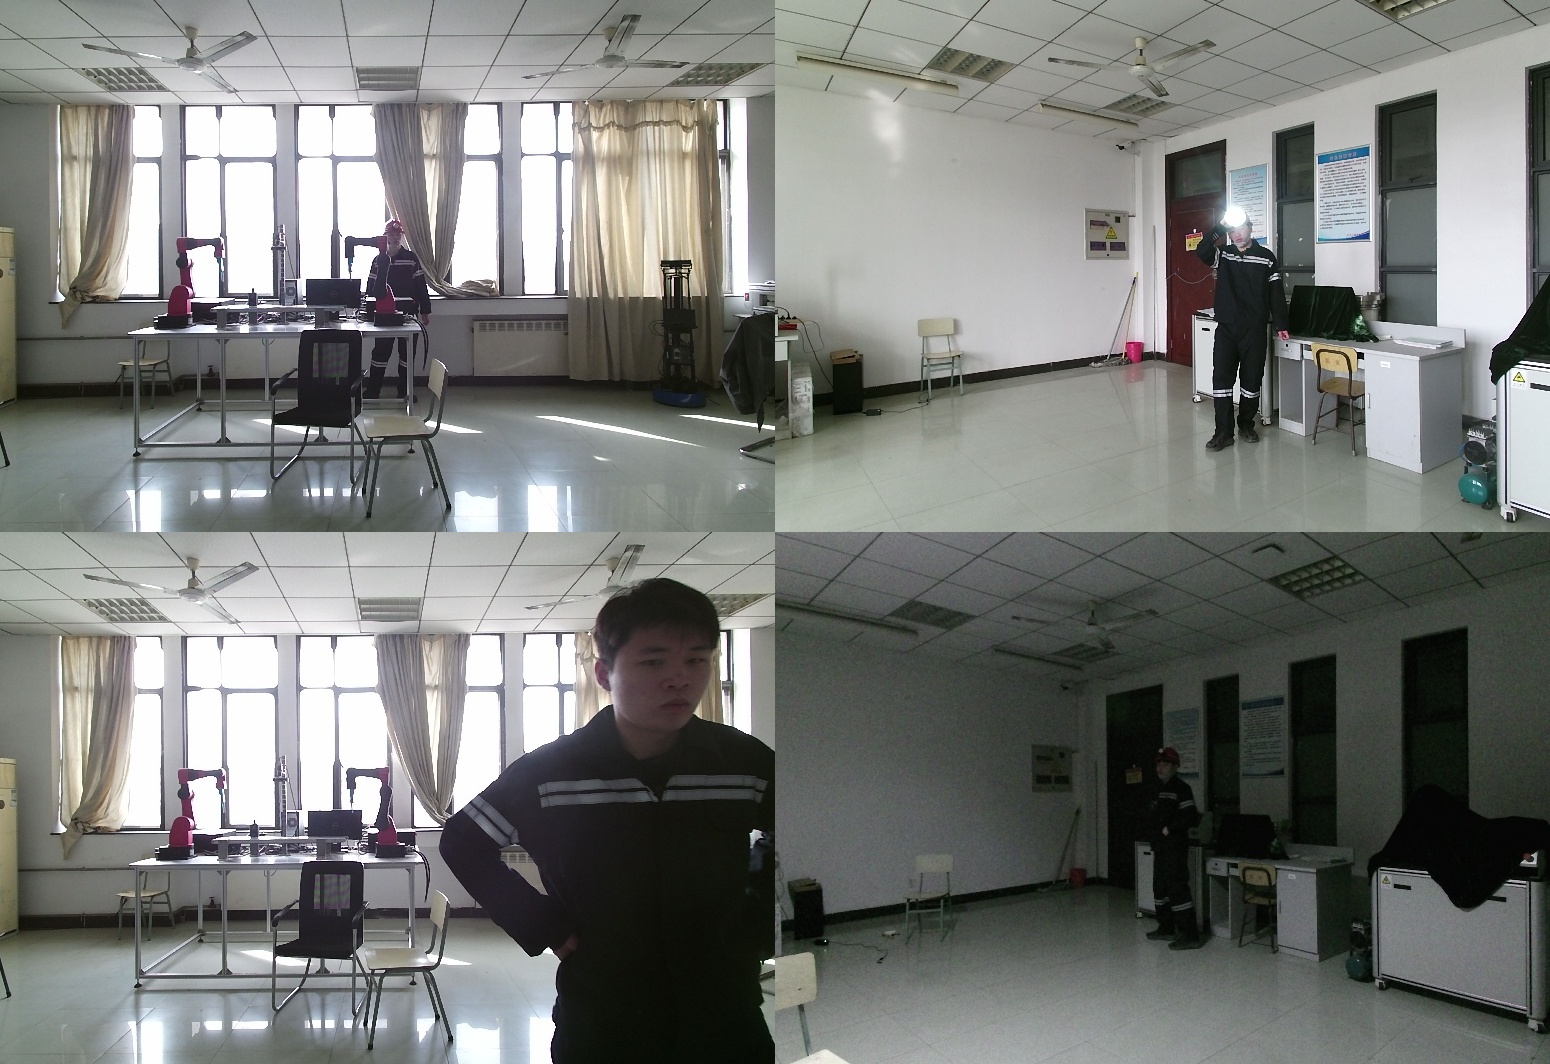person: (442, 581, 775, 1064), (1201, 207, 1296, 455), (1163, 747, 1229, 953), (363, 220, 431, 400)
